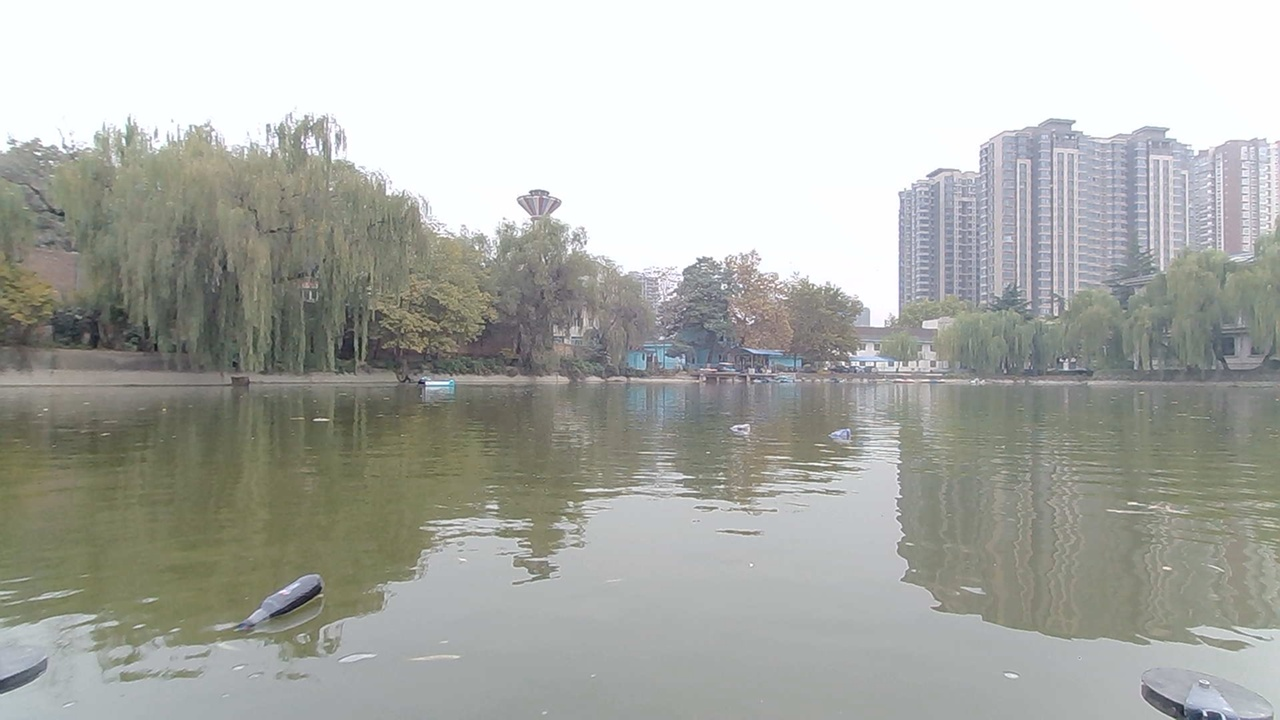bottle: (255, 576, 334, 626), (723, 413, 762, 439), (830, 428, 863, 445)
